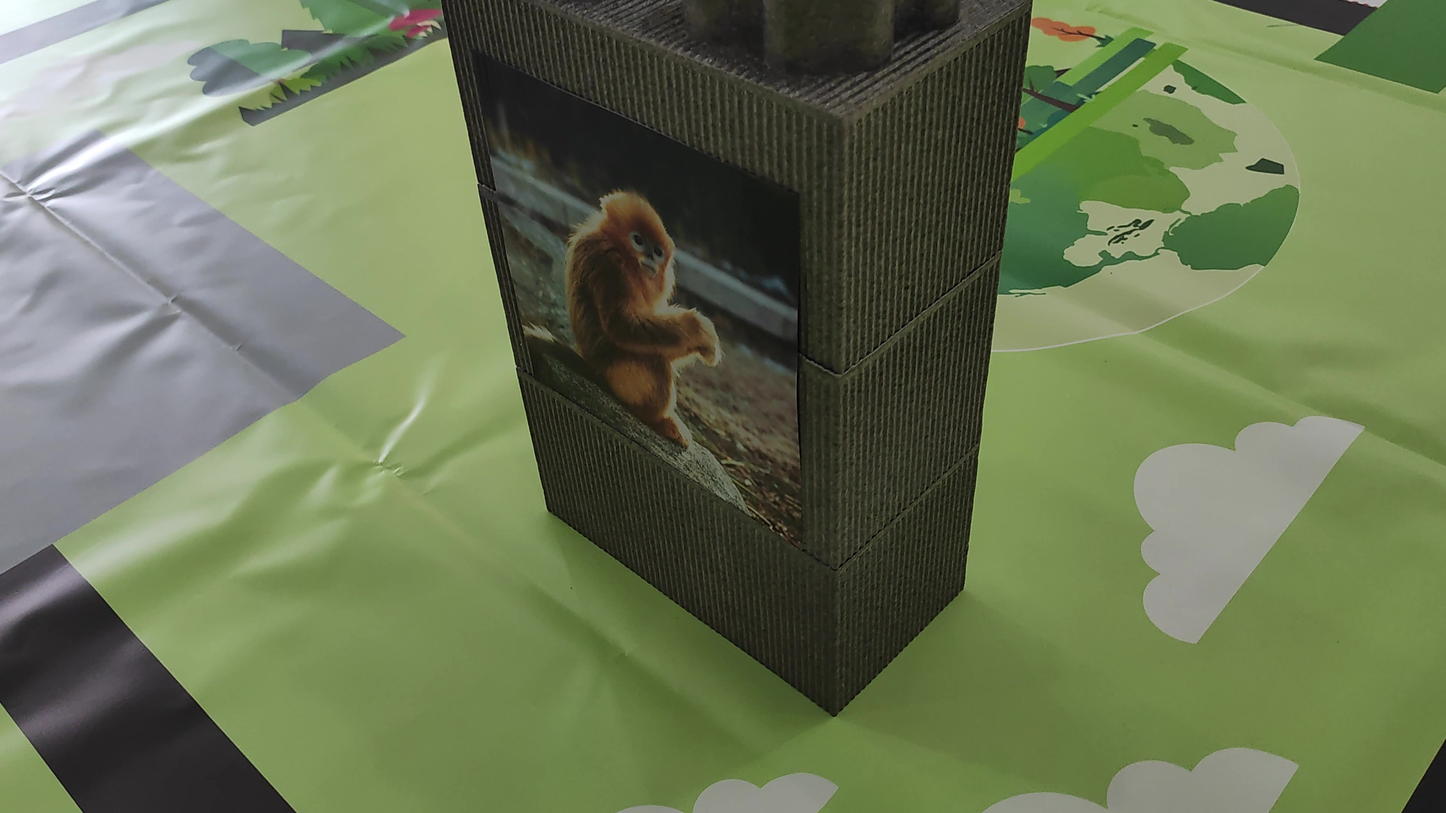monkey: (511, 158, 730, 449)
